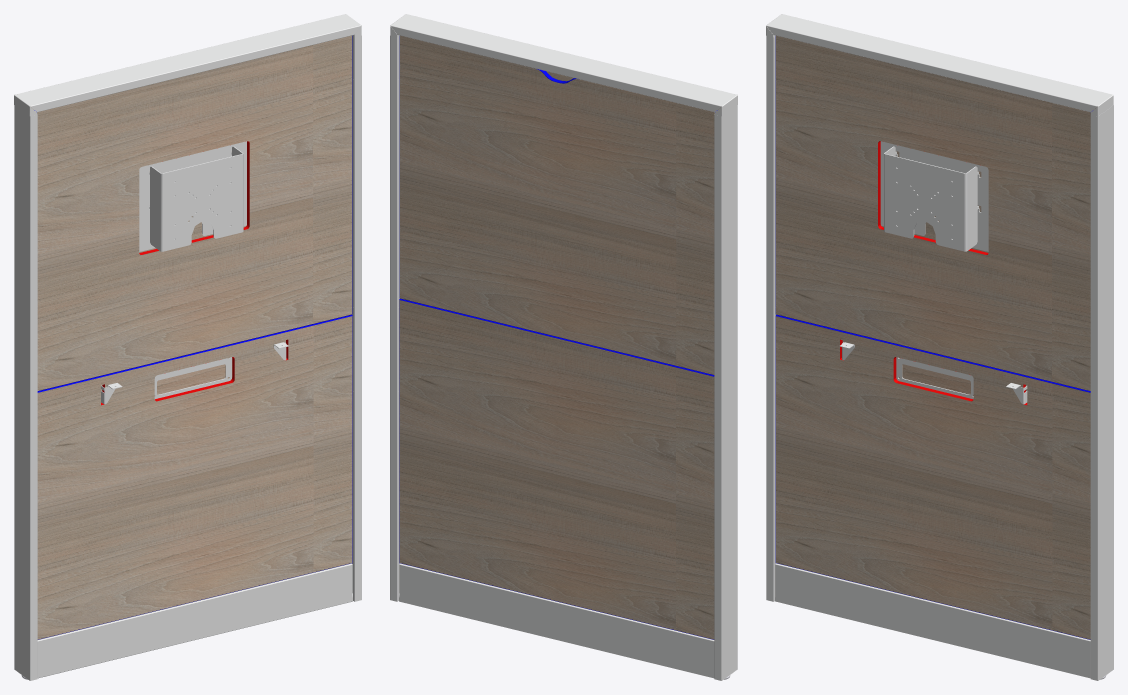
3 renders of one model, left to right at view 1: azimuth 30°, elevation 25°; view 2: azimuth 150°, elevation 25°; view 3: azimuth 330°, elevation 25°, orthographic.
Parts seen in each view (by area): view 1: 6, 4 (×2), 20, 16, 14, 13, 18, 15, 5, 21; view 2: 5 (×2), 4, 20, 23, 14, 18, 6; view 3: 6, 4 (×2), 18, 16, 14, 13, 20, 15, 5, 21.
Boxes of the visible parts, x1=… form: 6: x1=37, y1=35, x2=351, y2=390; 4 (×2): x1=34, y1=36, x2=352, y2=639; 20: x1=14, y1=105, x2=37, y2=680; 16: x1=37, y1=563, x2=352, y2=678; 14: x1=14, y1=14, x2=361, y2=116; 13: x1=149, y1=146, x2=243, y2=251; 18: x1=352, y1=35, x2=361, y2=601; 15: x1=139, y1=141, x2=246, y2=251; 5: x1=37, y1=315, x2=352, y2=639; 21: x1=154, y1=357, x2=231, y2=398; 5 (×2): x1=399, y1=35, x2=714, y2=639; 4: x1=399, y1=300, x2=714, y2=639; 20: x1=714, y1=105, x2=737, y2=680; 23: x1=399, y1=563, x2=714, y2=678; 14: x1=390, y1=14, x2=737, y2=116; 18: x1=390, y1=35, x2=399, y2=601; 6: x1=399, y1=36, x2=717, y2=375; 6: x1=776, y1=35, x2=1090, y2=390; 4 (×2): x1=775, y1=36, x2=1090, y2=639; 18: x1=1090, y1=105, x2=1113, y2=680; 16: x1=775, y1=563, x2=1090, y2=678; 14: x1=766, y1=14, x2=1113, y2=116; 13: x1=884, y1=146, x2=978, y2=251; 20: x1=766, y1=35, x2=775, y2=601; 15: x1=880, y1=141, x2=988, y2=251; 5: x1=775, y1=315, x2=1090, y2=639; 21: x1=896, y1=357, x2=973, y2=399.
Bounding box in the file's own units: 1.2 × 2 × 0.1443.
Materials: 5 (1 with a texture image).
